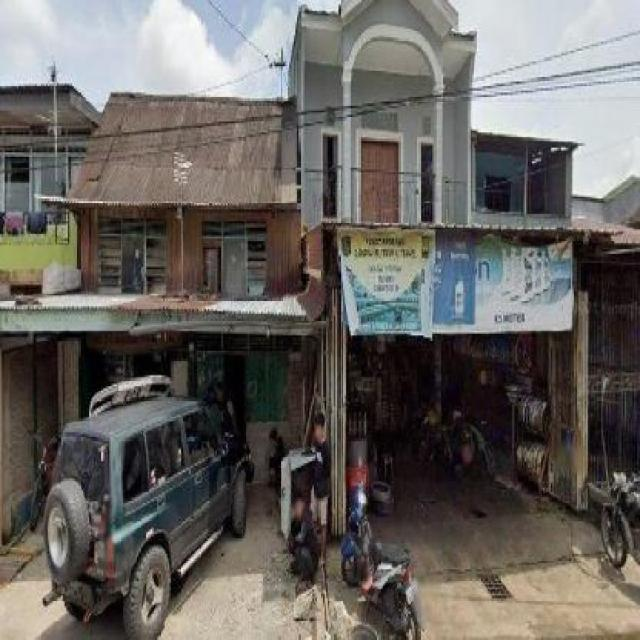Jeep: (36, 382, 258, 640)
